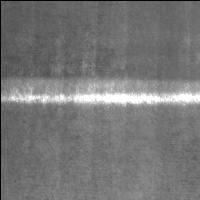scratches: (1, 78, 200, 107)
